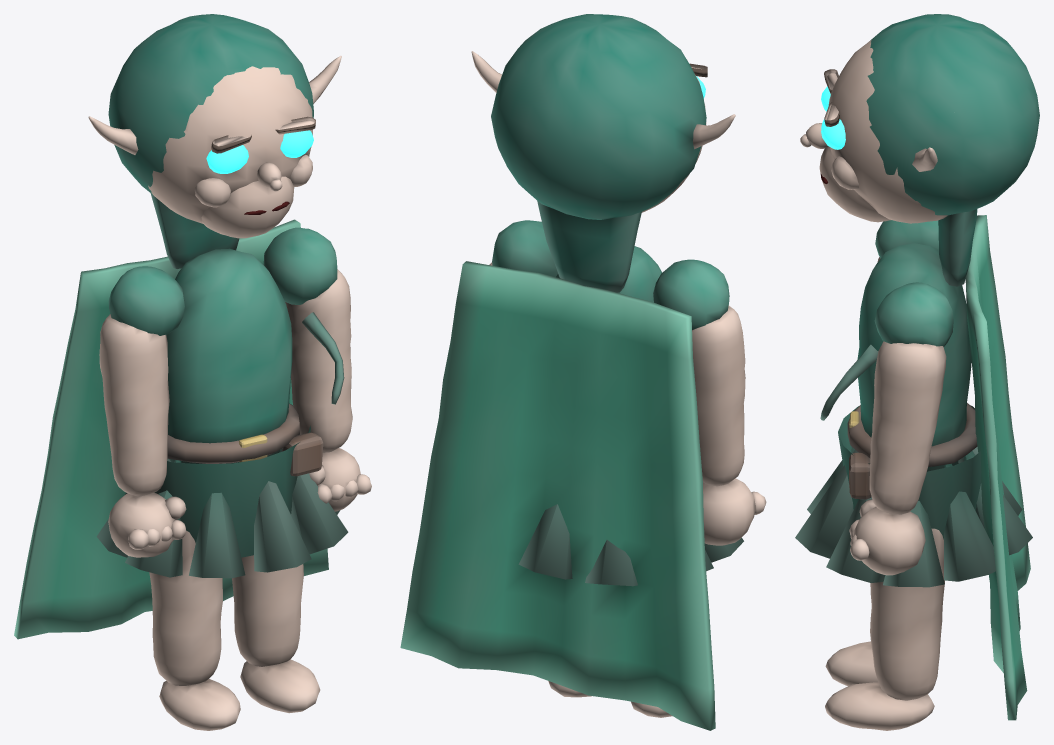
3 views of the same model, side by side, from view 1: azimuth 30°, elevation 25°; view 2: azimuth 150°, elevation 25°; view 3: azimuth 270°, elevation 25° (orthographic). The views are drawn at different scales.
Parts seen in each view (by area): view 1: torso, head, cape, armR, legR, armL, legL; view 2: cape, head, torso, armR; view 3: head, torso, cape, armL, legL, legR.
Part boxes in pixels (bbox=[...]): torso: bbox=[96, 227, 348, 578]; head: bbox=[88, 14, 341, 268]; cape: bbox=[14, 219, 328, 639]; armR: bbox=[99, 314, 186, 557]; legR: bbox=[149, 531, 240, 730]; armL: bbox=[285, 269, 371, 511]; legL: bbox=[232, 555, 320, 713]; cape: bbox=[400, 261, 715, 730]; head: bbox=[471, 14, 735, 292]; torso: bbox=[492, 220, 743, 586]; armR: bbox=[692, 305, 766, 545]; head: bbox=[800, 14, 1039, 286]; torso: bbox=[795, 220, 1032, 587]; cape: bbox=[965, 215, 1030, 720]; armL: bbox=[849, 341, 946, 575]; legL: bbox=[825, 528, 944, 730]; legR: bbox=[825, 586, 877, 686].
Bounding box in the file's own units: 0.4688 × 0.9797 × 0.3194.
